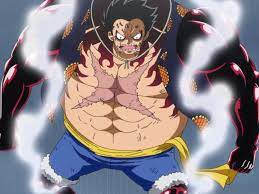Luffy: (106, 13, 146, 54)
